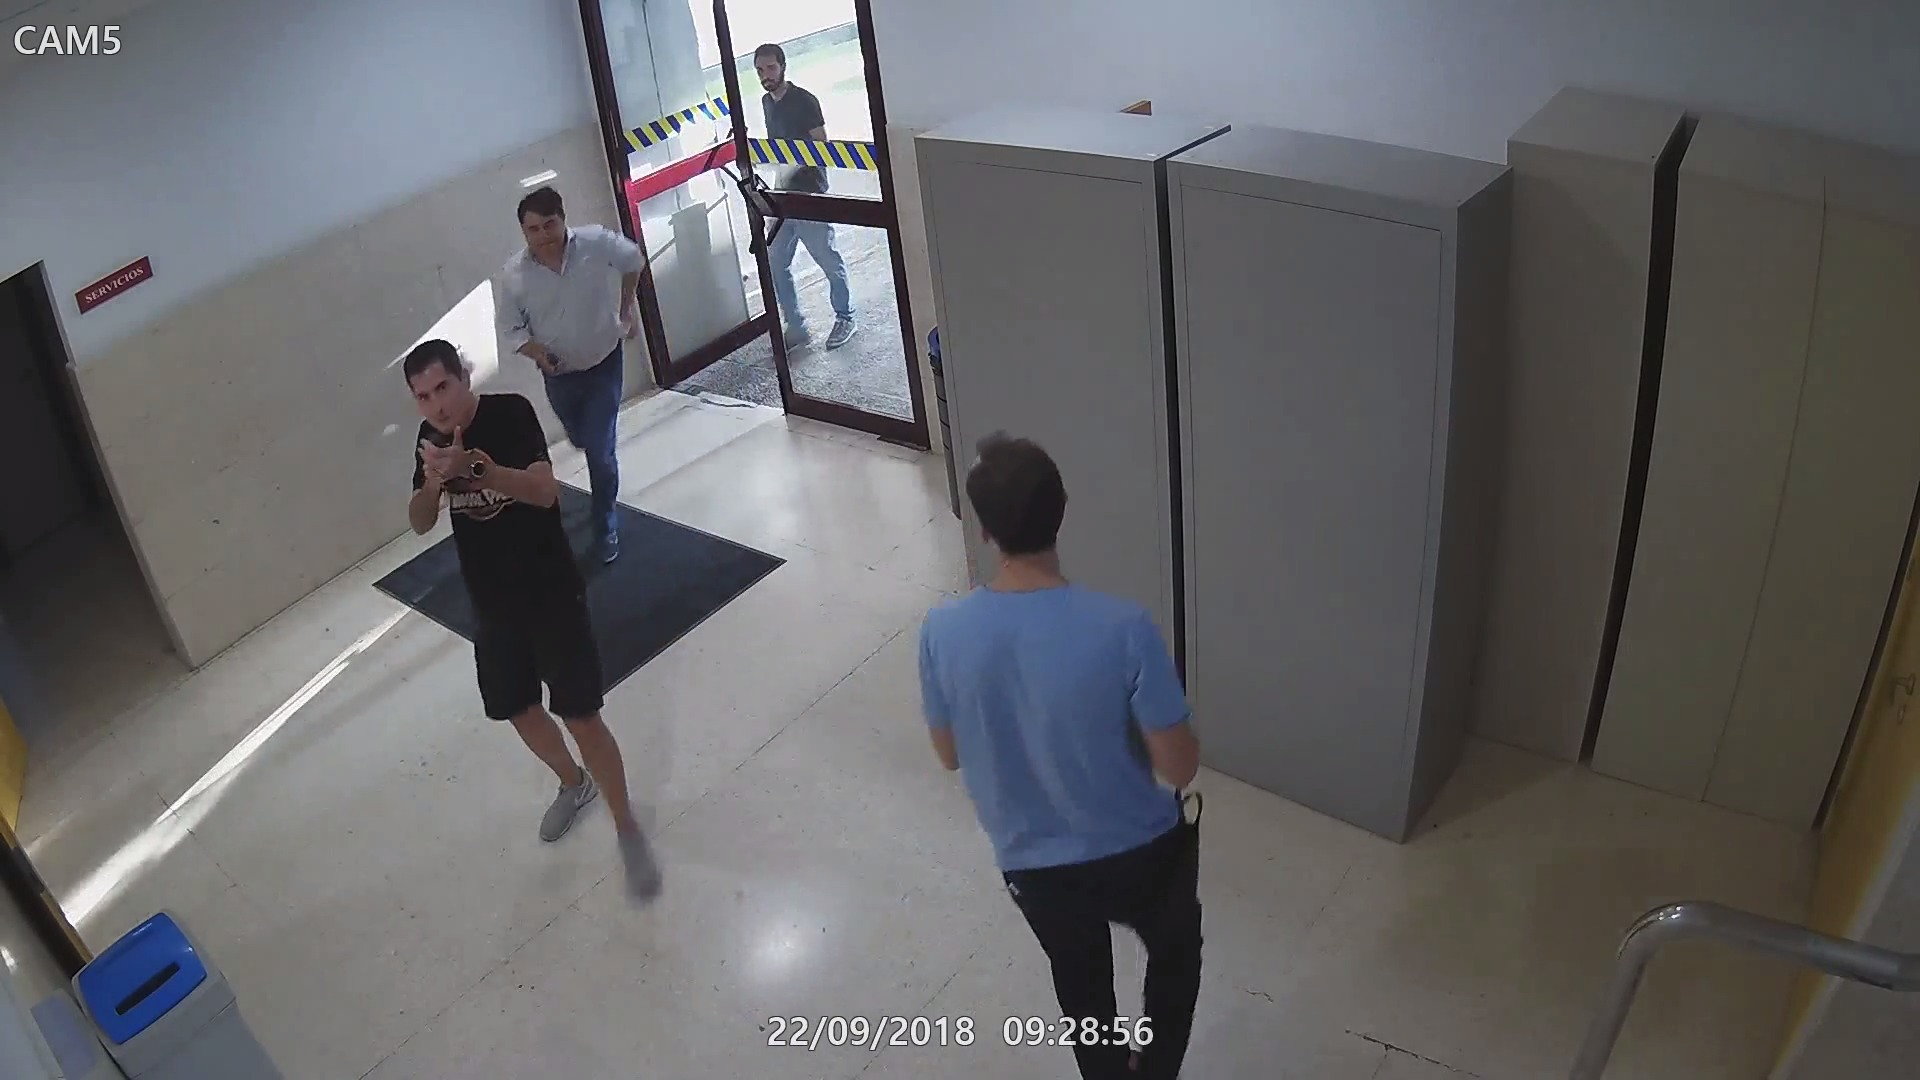Handgun: (415, 429, 460, 475), (527, 347, 563, 384)
